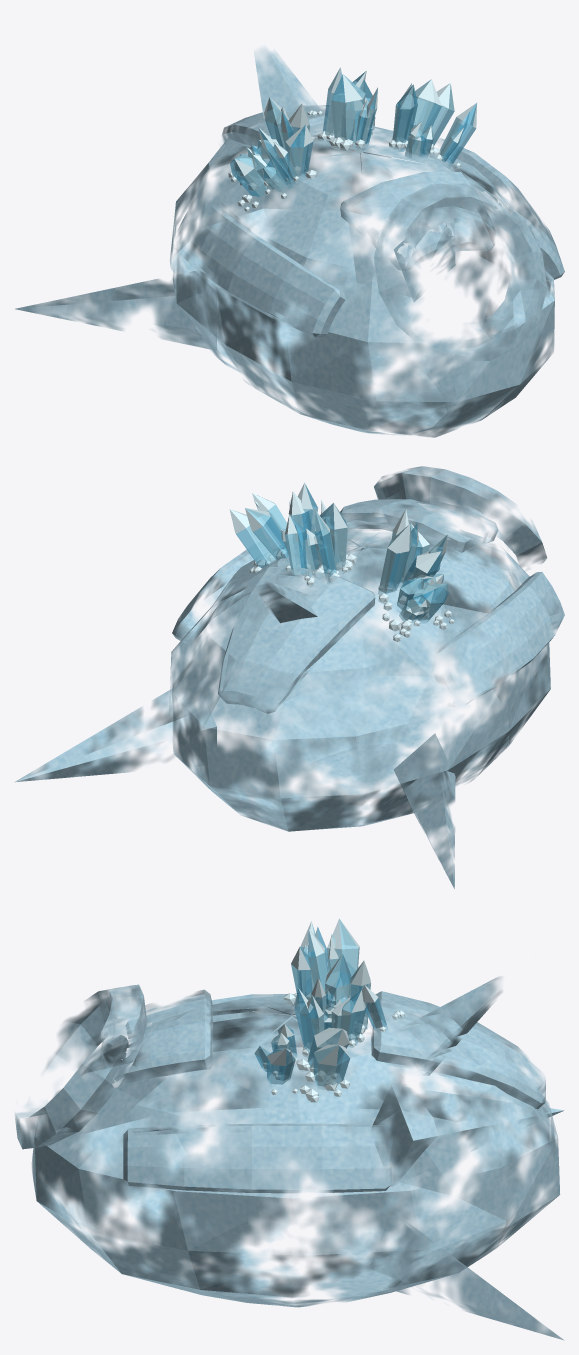
Rendered from fast.glb.
3 views of the same model, one above another, from view 1: azimuth 30°, elevation 25°; view 2: azimuth 150°, elevation 25°; view 3: azimuth 270°, elevation 25° (orthographic). The views are drawn at different scales.
Visible parts, largest first — view 1: FrostCoat, AttachedIce; view 2: FrostCoat, AttachedIce; view 3: FrostCoat, AttachedIce.
Boxes of the visible parts, x1,y1,x2,y2 form: FrostCoat: (15, 46, 564, 437); AttachedIce: (228, 67, 477, 211); FrostCoat: (14, 466, 564, 888); AttachedIce: (229, 482, 454, 641); FrostCoat: (15, 977, 564, 1340); AttachedIce: (254, 918, 404, 1102).
Size of the model in its own units: 1 by 0.673 by 1.02.
4 materials, 1 textured.
